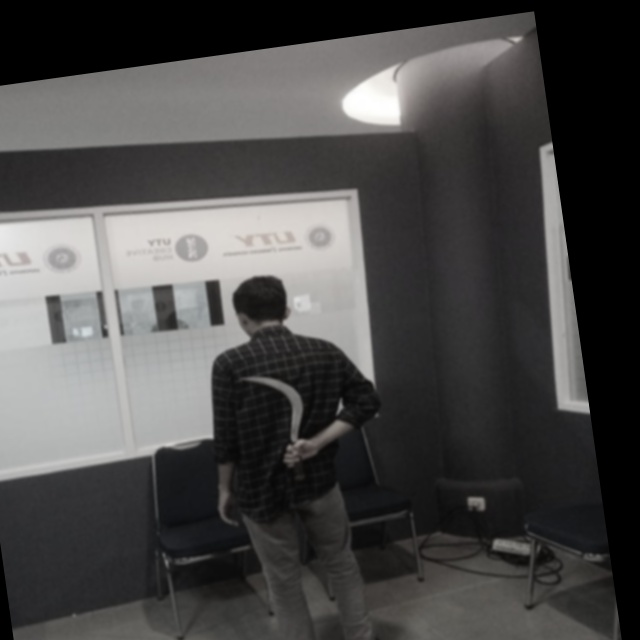Sharp-Object: (232, 359, 320, 482)
